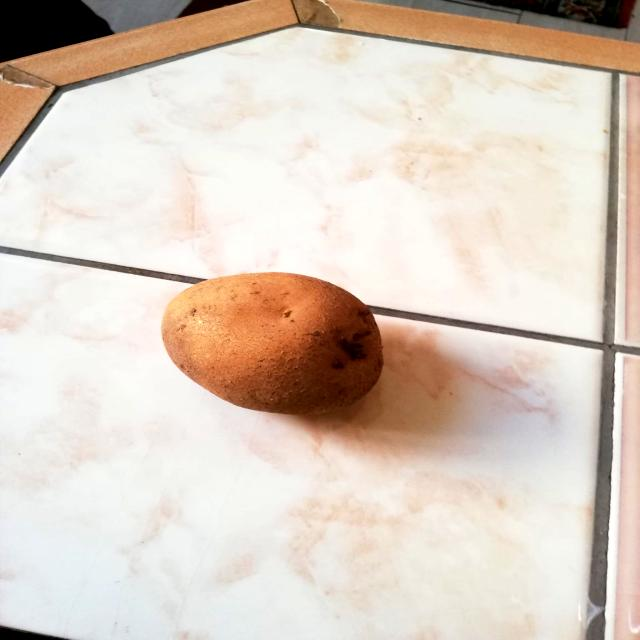potato: (155, 258, 389, 421)
